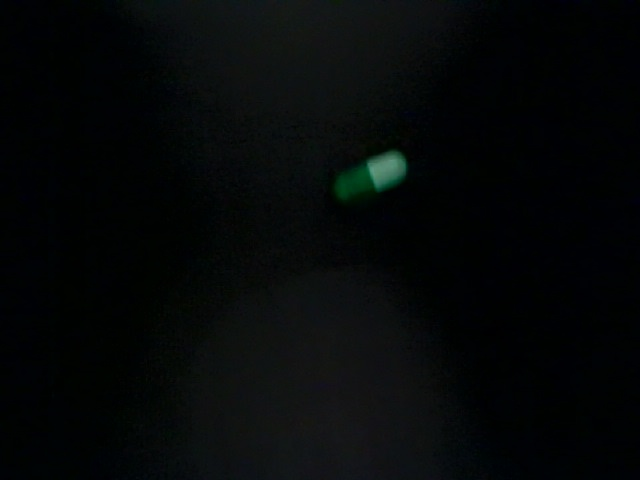YHLJ: (126, 211, 393, 293)
